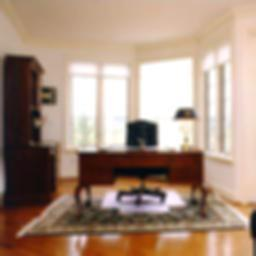Armario: (6, 58, 58, 198)
